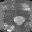people: (14, 15, 25, 25)
